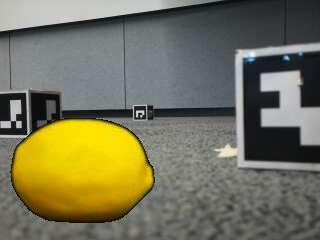lemon: (12, 118, 154, 222)
